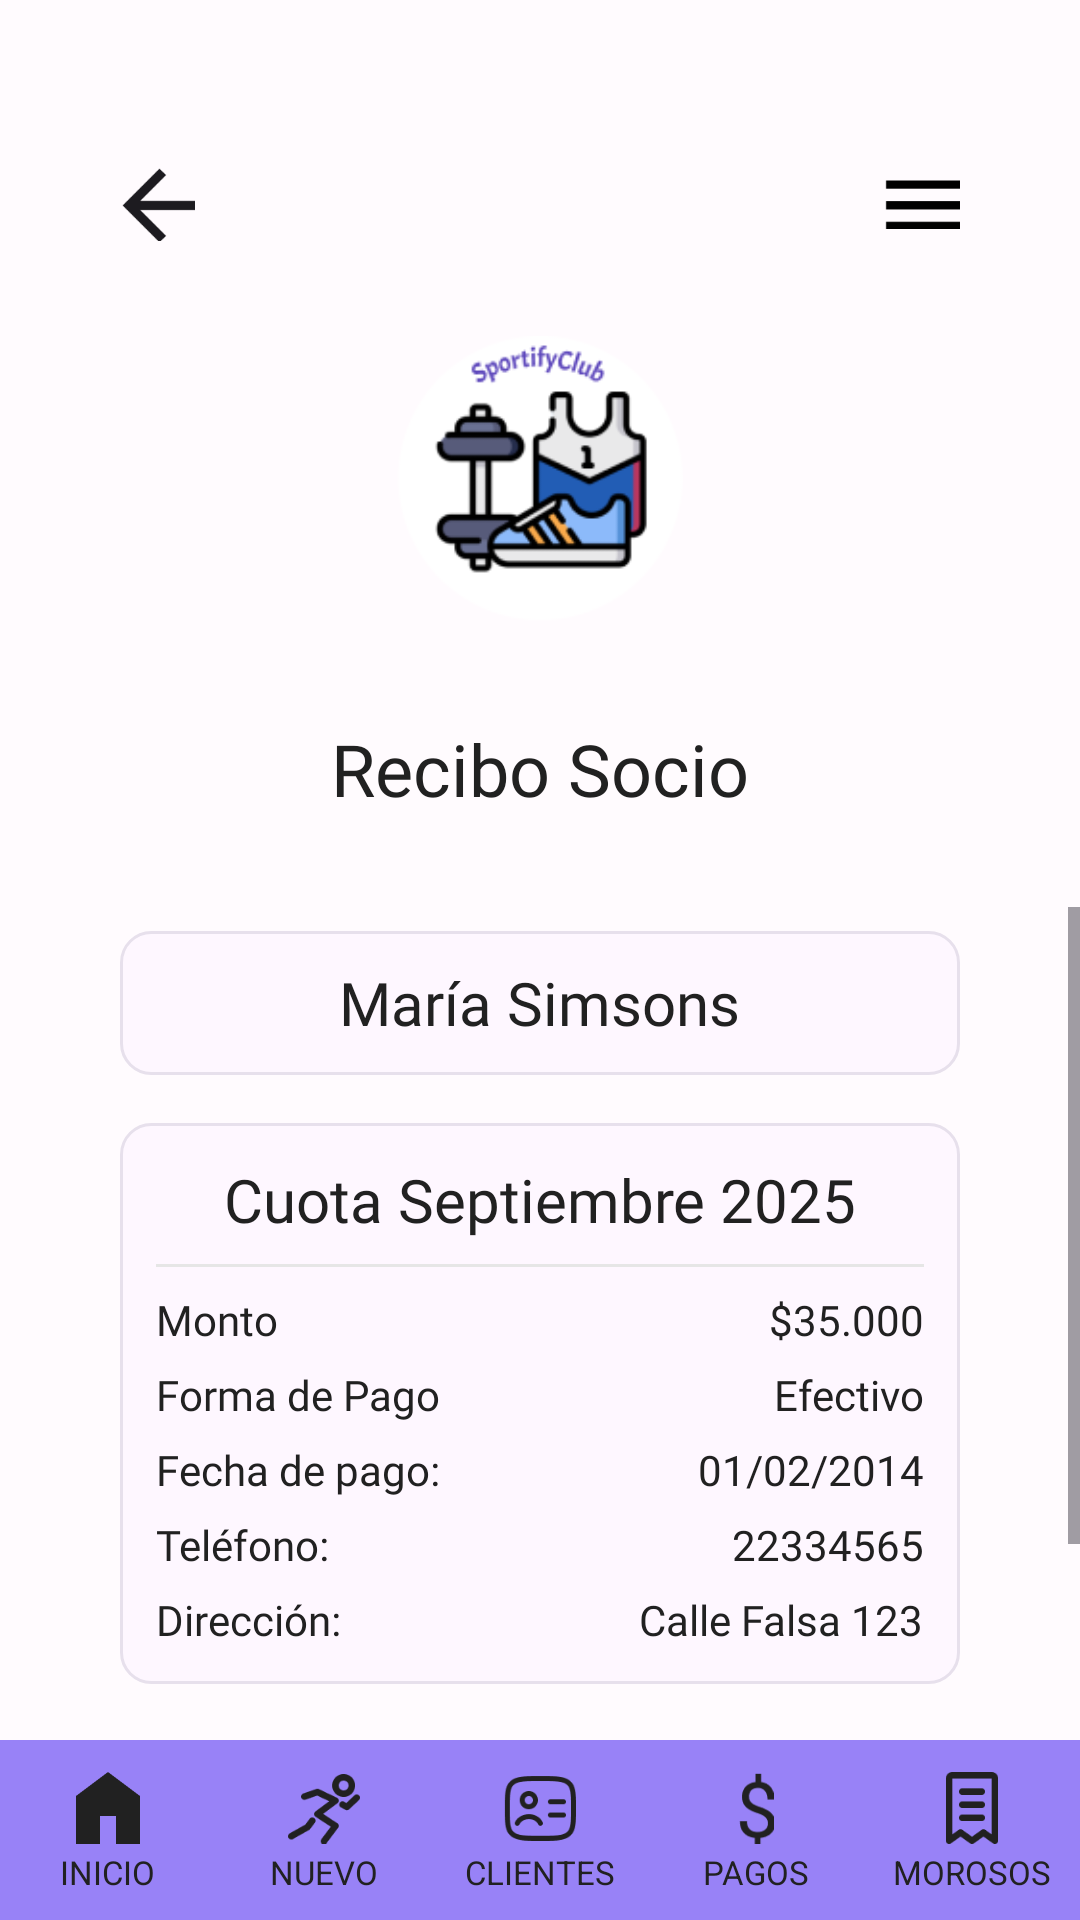

Where icons sit on this 1080 x 1920 app screen, as box=[x1, y1, x2, y2]:
Menú: box=[885, 180, 960, 229]
Volver: box=[122, 168, 195, 241]
